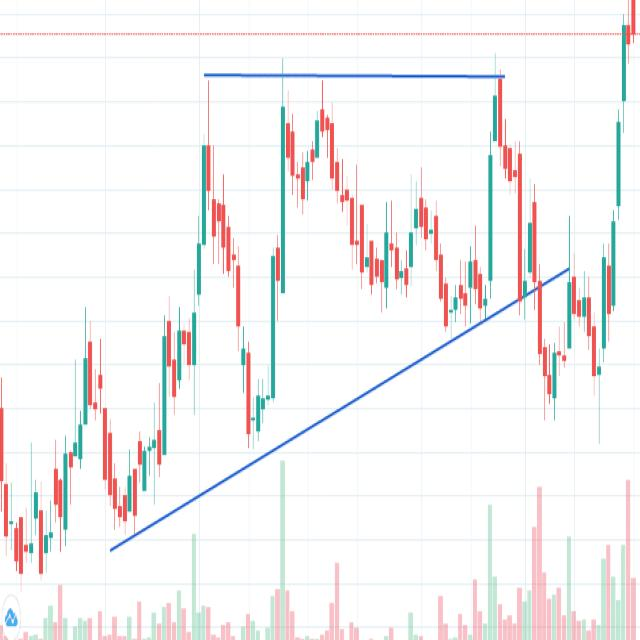Ascending-Triangle: (83, 79, 557, 569)
